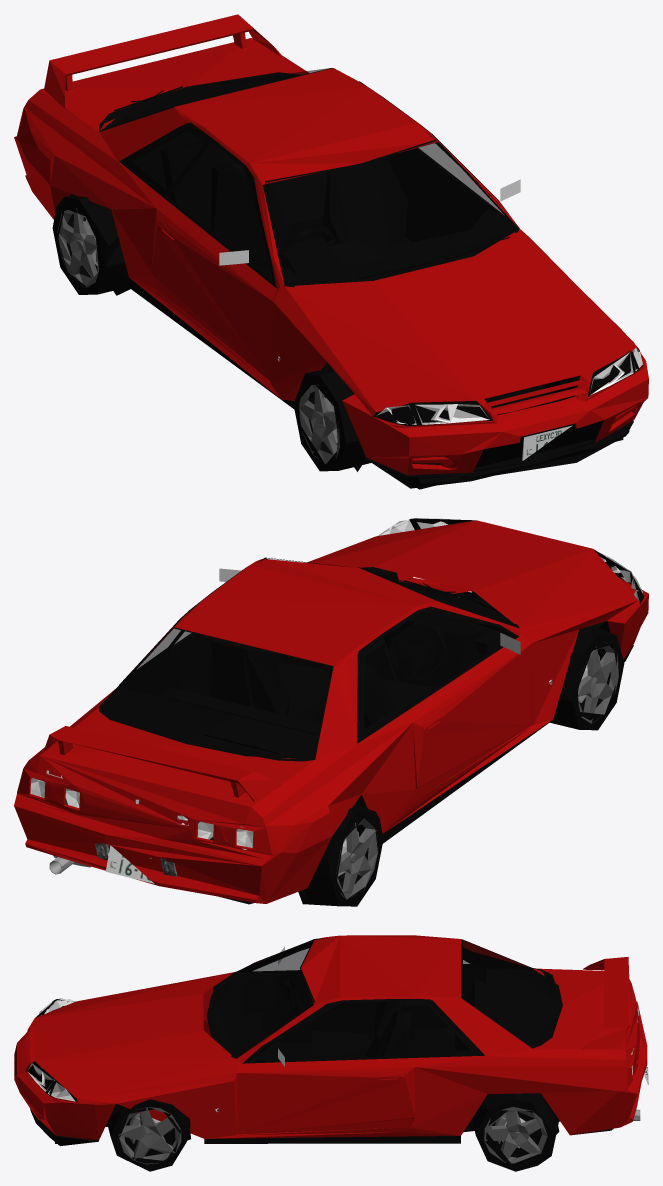
Rendered from skyline_r32.lod1.glb.
The picture shows the model from 3 angles, top to bottom: view 1: azimuth 30°, elevation 25°; view 2: azimuth 150°, elevation 25°; view 3: azimuth 270°, elevation 25°; orthographic projection. The views are drawn at different scales.
Parts seen in each view (by area): view 1: Object_18, Object_7, Object_17, Object_22, Object_24, Object_23, Object_11, Object_20, Object_6, Object_10; view 2: Object_18, Object_17, Object_7, Object_24, Object_22, Object_23, Object_11, Object_6, Object_4, Object_21, Object_20; view 3: Object_18, Object_17, Object_7, Object_24, Object_22, Object_23, Object_11, Object_20, Object_6.
Part boxes in pixels (<box>): Object_18: <box>14,14,648,475</box>; Object_7: <box>105,68,634,425</box>; Object_17: <box>102,75,517,284</box>; Object_22: <box>114,81,639,488</box>; Object_24: <box>52,195,371,471</box>; Object_23: <box>57,208,339,464</box>; Object_11: <box>99,68,519,287</box>; Object_20: <box>70,194,623,489</box>; Object_6: <box>377,348,642,424</box>; Object_10: <box>219,179,520,265</box>; Object_18: <box>14,520,648,903</box>; Object_17: <box>100,558,514,758</box>; Object_7: <box>101,518,631,757</box>; Object_24: <box>298,626,624,906</box>; Object_22: <box>119,518,644,843</box>; Object_23: <box>336,642,618,899</box>; Object_11: <box>99,557,519,761</box>; Object_6: <box>30,518,642,849</box>; Object_4: <box>30,778,252,847</box>; Object_21: <box>105,845,154,883</box>; Object_20: <box>54,567,610,904</box>; Object_18: <box>14,935,647,1140</box>; Object_17: <box>207,938,562,1060</box>; Object_7: <box>30,940,561,1093</box>; Object_24: <box>107,1093,558,1171</box>; Object_22: <box>27,946,553,1145</box>; Object_23: <box>118,1107,547,1164</box>; Object_11: <box>206,939,562,1058</box>; Object_20: <box>55,1079,636,1156</box>; Object_6: <box>27,999,632,1101</box>.
Bounding box in the file's own units: 4.33 × 2.92 × 10.41.
Materials: 23 (2 with a texture image).
